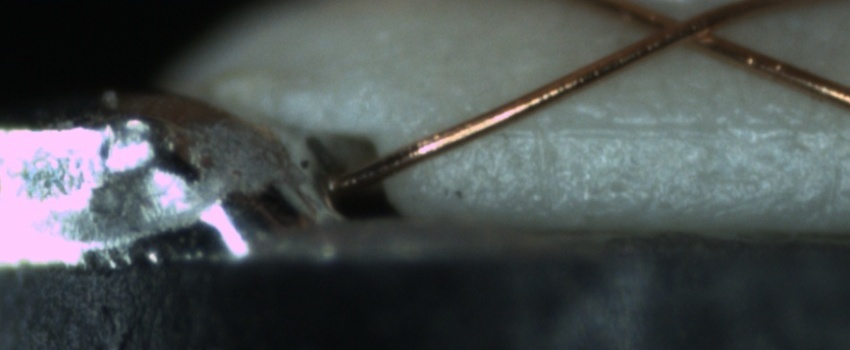CL: (632, 3, 729, 53)
DL: (488, 98, 850, 164)
